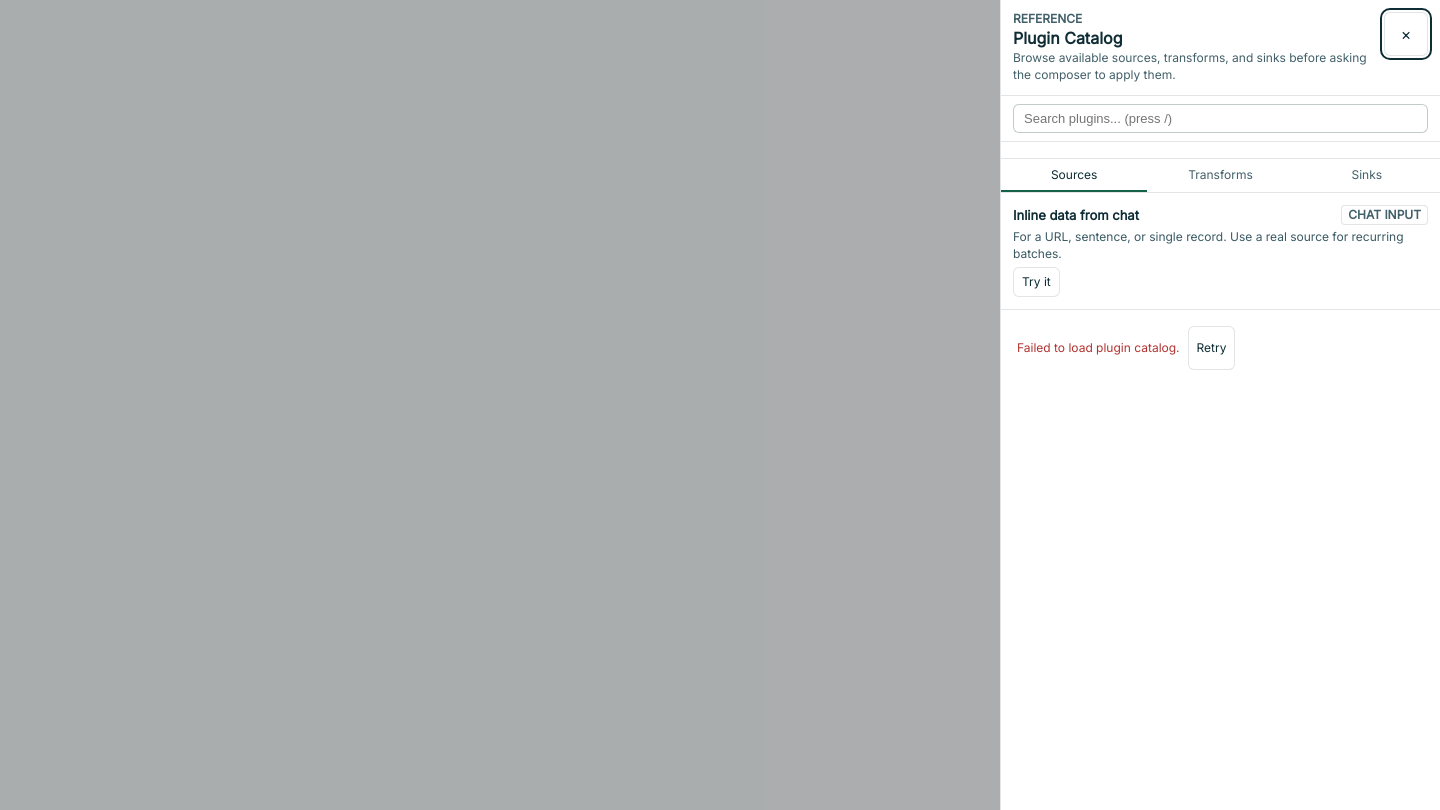
Test: CatalogDrawer › retries catalog loading inline after an initial fetch failure
Check: the text "Failed to load plugin catalog." is shown, box [1017, 339, 1180, 357]
Click the button with aria-label "Retry loading plugin catalog". click: (1212, 348)
box: [1188, 326, 1236, 370]
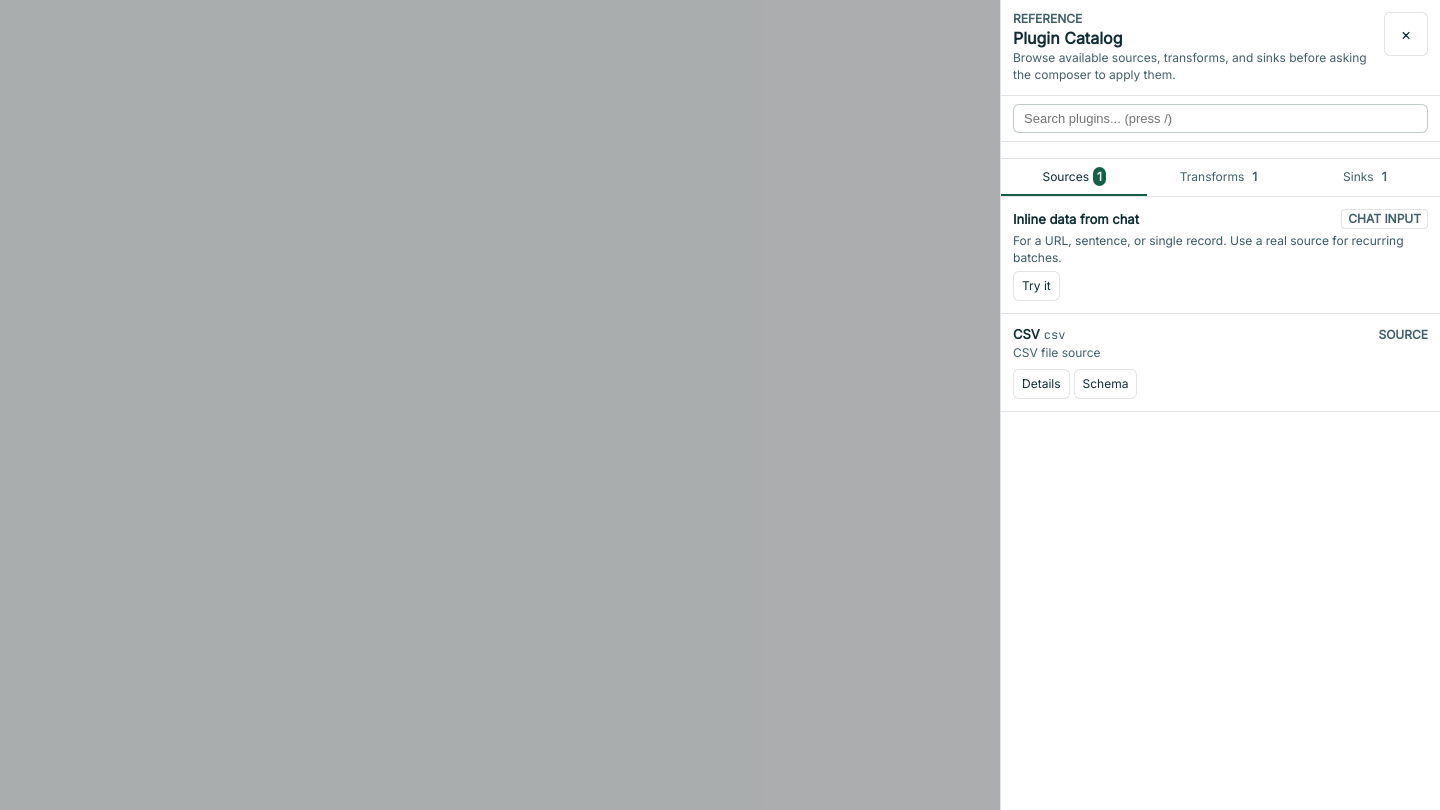
Check: the text "CSV file source" is shown, box [1013, 345, 1100, 360]
